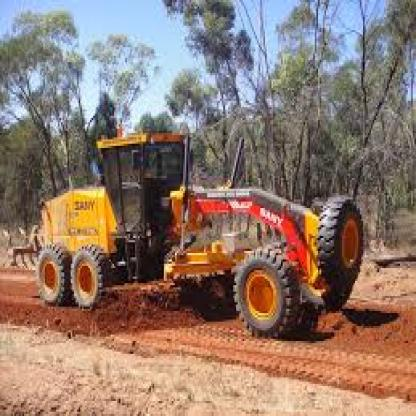bull_dozer/loader/grader: (18, 120, 368, 350)
